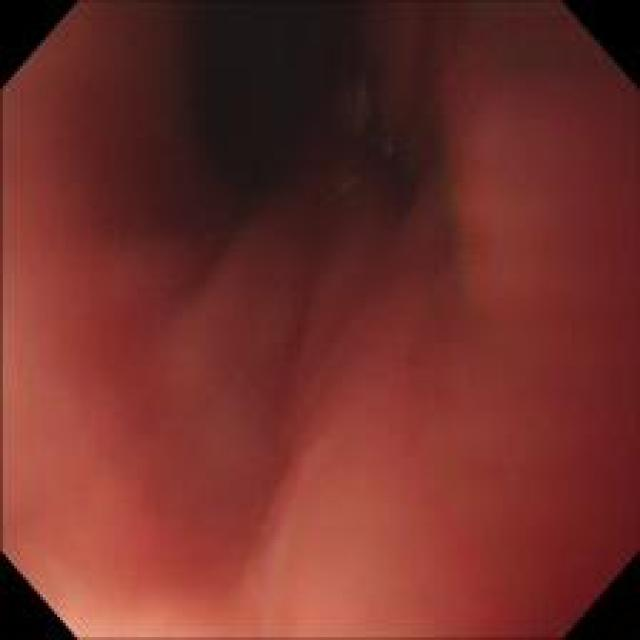blur: (11, 22, 602, 595)
color misalignment: (430, 85, 484, 320), (348, 65, 376, 141), (331, 170, 366, 199), (369, 139, 405, 162)
contrast: (44, 12, 506, 301)
